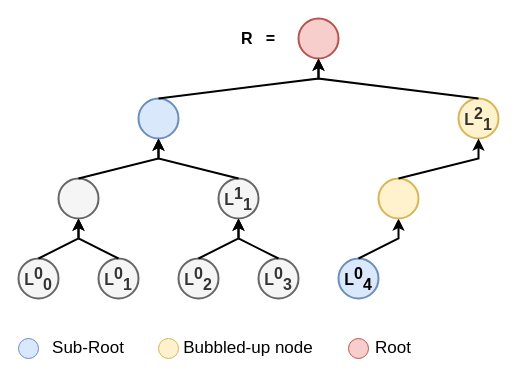
This 516x376 diagram has some shape labels left out. The shapes that lost their labels are listed below. From the top down, each one's centre as x and y in pixels, then its label:
At point (318, 38): "L 3 0".
At point (158, 118): "L 2 0".
At point (78, 198): "L 1 0".
At point (398, 198): "L 1 2".
